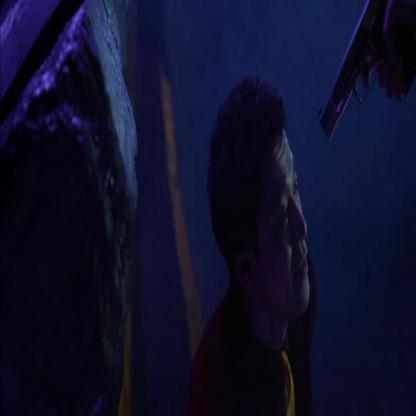Guns: (316, 0, 401, 140)
